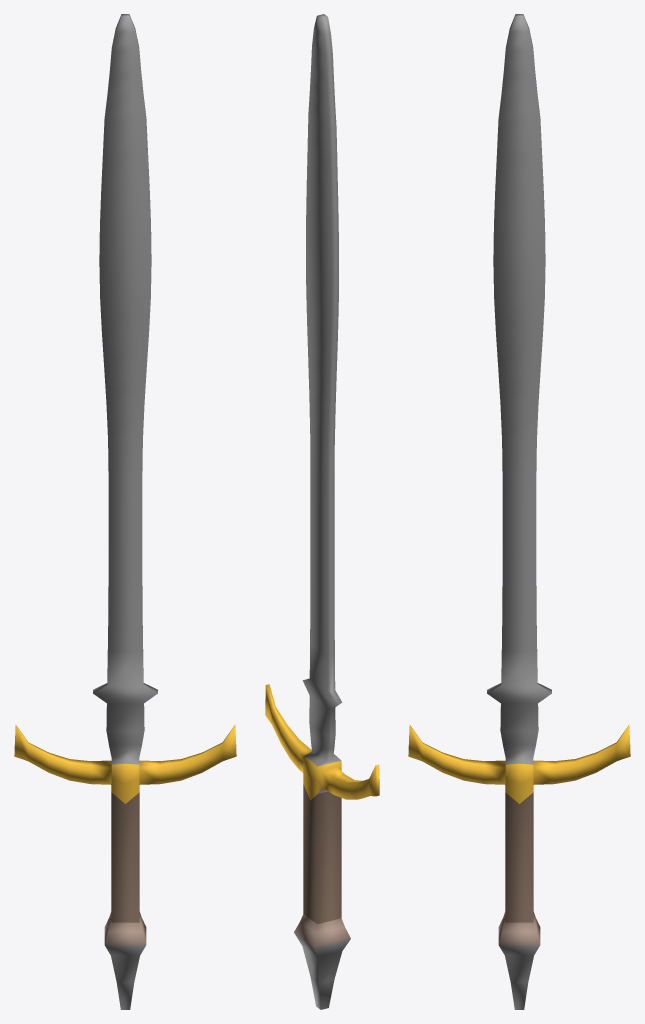
The model's file is sword2.glb.
3 renders of one model, left to right at view 1: azimuth 90°, elevation 25°; view 2: azimuth 210°, elevation 25°; view 3: azimuth 270°, elevation 25°, orthographic.
Parts seen in each view (by area): view 1: Cube.002; view 2: Cube.002; view 3: Cube.002.
Boxes of the visible parts, x1,y1,x2,y2 form: Cube.002: [14, 14, 236, 1009]; Cube.002: [265, 14, 379, 1009]; Cube.002: [408, 14, 630, 1009].
Bounding box in the file's own units: 0.2468 × 6.44 × 1.31.
